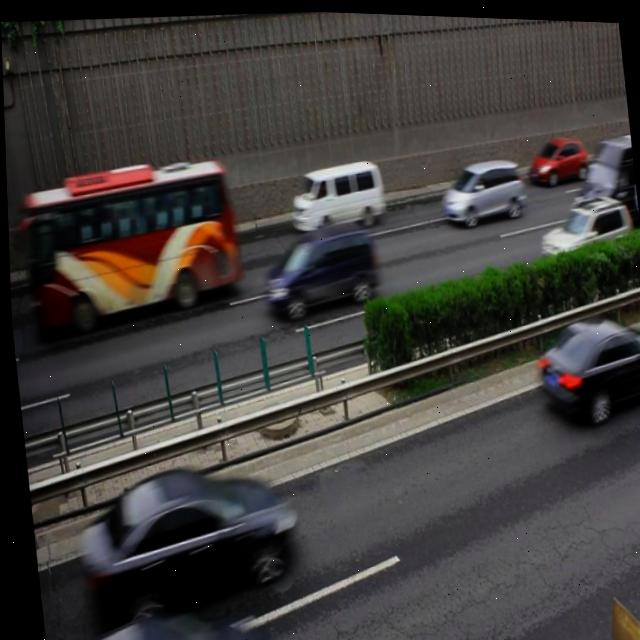car: (77, 455, 297, 620), (527, 308, 640, 425), (533, 188, 631, 270), (562, 129, 638, 221), (521, 128, 590, 185)
truck: (255, 215, 376, 319), (284, 154, 384, 232), (434, 152, 524, 227)
van: (23, 154, 239, 340)
